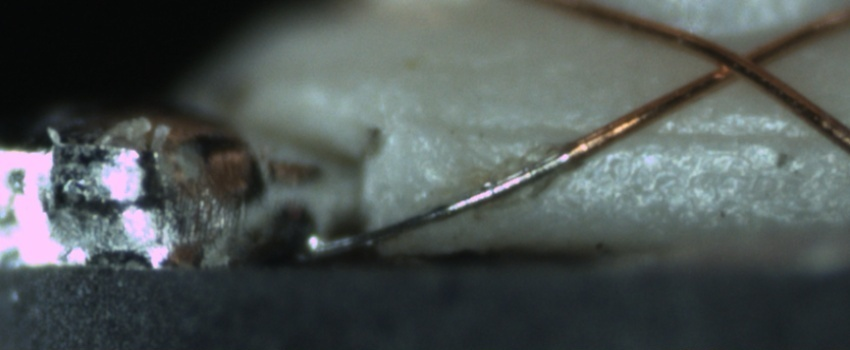CL: (697, 32, 785, 90)
DL: (414, 104, 849, 164)
TS: (312, 150, 573, 259)
TTCW: (305, 119, 624, 247)
